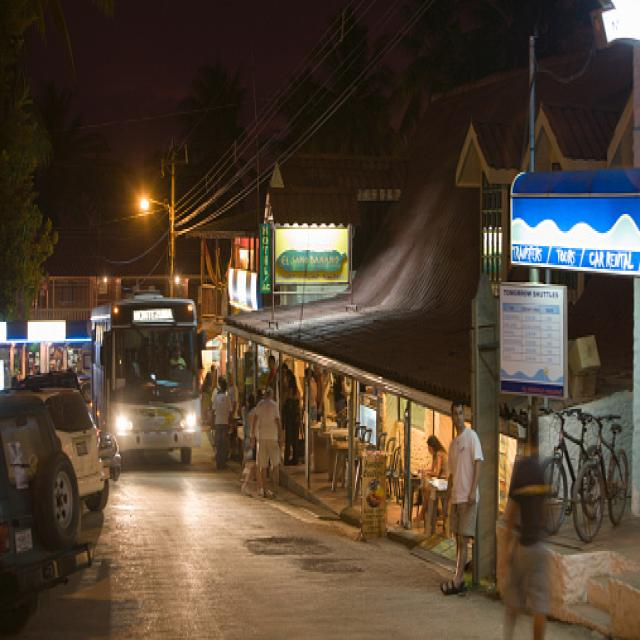Bicycle: (544, 398, 613, 540), (571, 414, 629, 543)
Bus: (100, 287, 207, 505)
People: (508, 399, 556, 640), (441, 397, 487, 629), (410, 410, 447, 558), (250, 363, 284, 508), (207, 363, 243, 479), (284, 342, 311, 470), (204, 340, 220, 434), (329, 360, 349, 430)
car: (0, 403, 82, 640), (7, 347, 101, 537)
